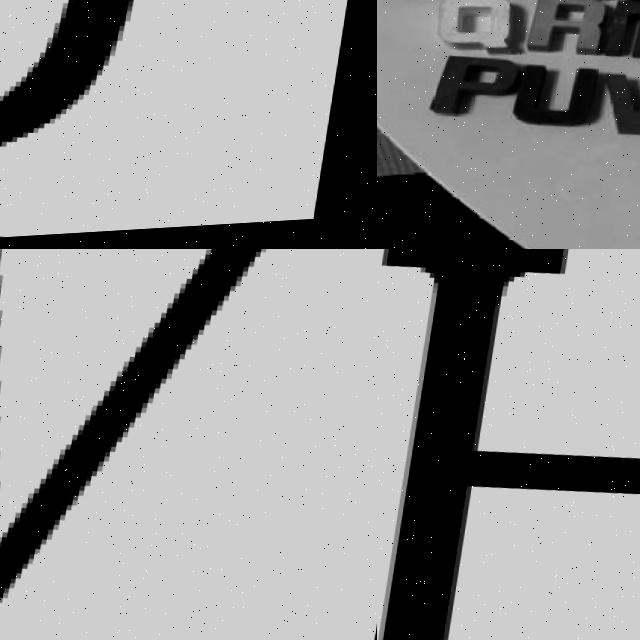H: (387, 249, 640, 640)
J: (0, 0, 321, 206)
M: (602, 0, 640, 67)
P: (431, 52, 527, 123)
Q: (436, 0, 527, 60)
R: (525, 0, 617, 63)
U: (518, 61, 607, 129)
V: (0, 249, 377, 640), (599, 72, 640, 143)
